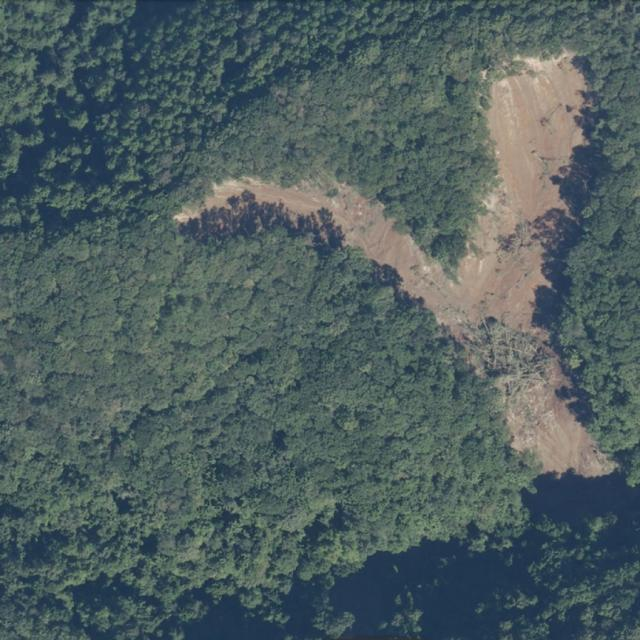landslide: (203, 51, 617, 478)
